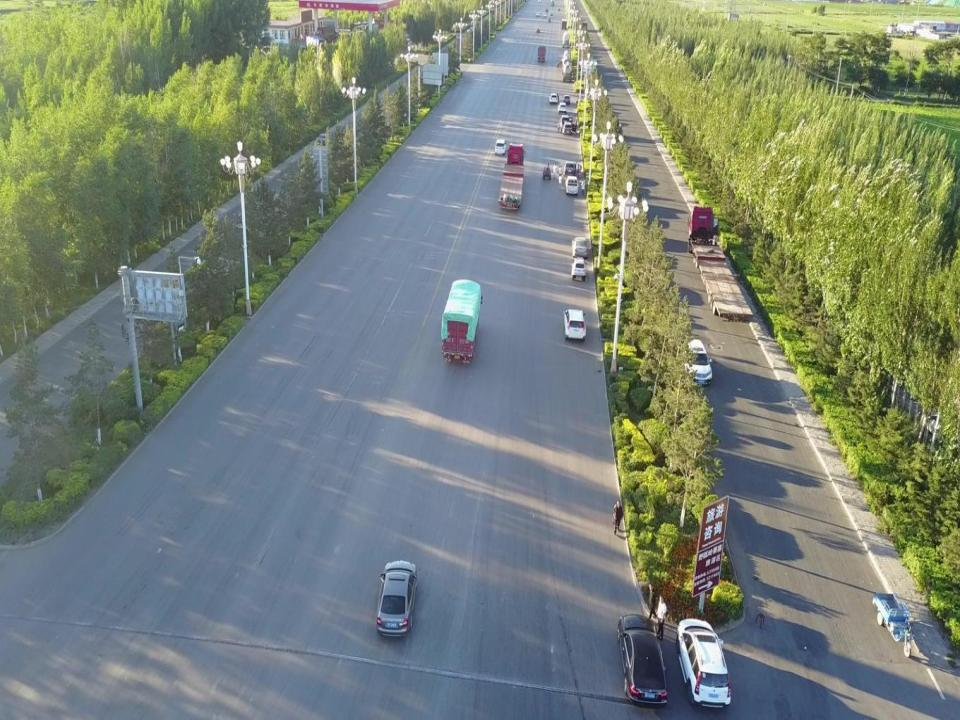car: (676, 618, 732, 712), (616, 614, 668, 708), (376, 561, 417, 636), (682, 339, 712, 385), (562, 308, 586, 342), (571, 257, 587, 282), (571, 237, 588, 260), (565, 175, 579, 196), (315, 133, 333, 147), (495, 138, 507, 156), (564, 160, 576, 177), (557, 102, 567, 115), (548, 93, 558, 105), (562, 95, 570, 105)
truck: (686, 205, 754, 324), (441, 279, 482, 364), (498, 142, 526, 211), (562, 59, 573, 83), (562, 50, 571, 67), (538, 45, 546, 63), (562, 31, 569, 47), (581, 19, 588, 32), (561, 19, 567, 30)
